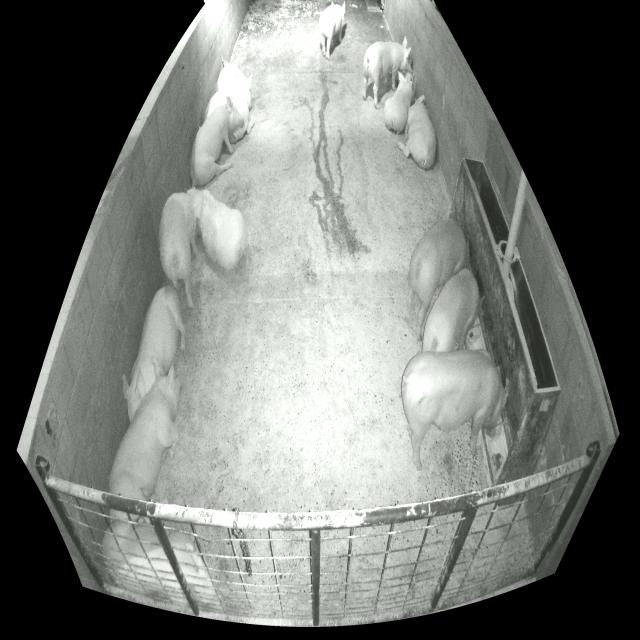pig: (402, 350, 509, 471), (108, 356, 182, 501), (103, 519, 215, 609), (122, 286, 186, 423), (408, 220, 465, 341), (159, 191, 203, 308), (189, 96, 244, 185), (422, 269, 479, 351), (197, 190, 246, 270), (363, 37, 413, 110), (215, 58, 252, 143), (397, 95, 436, 169), (384, 71, 414, 133), (319, 1, 345, 59), (204, 92, 227, 122)
